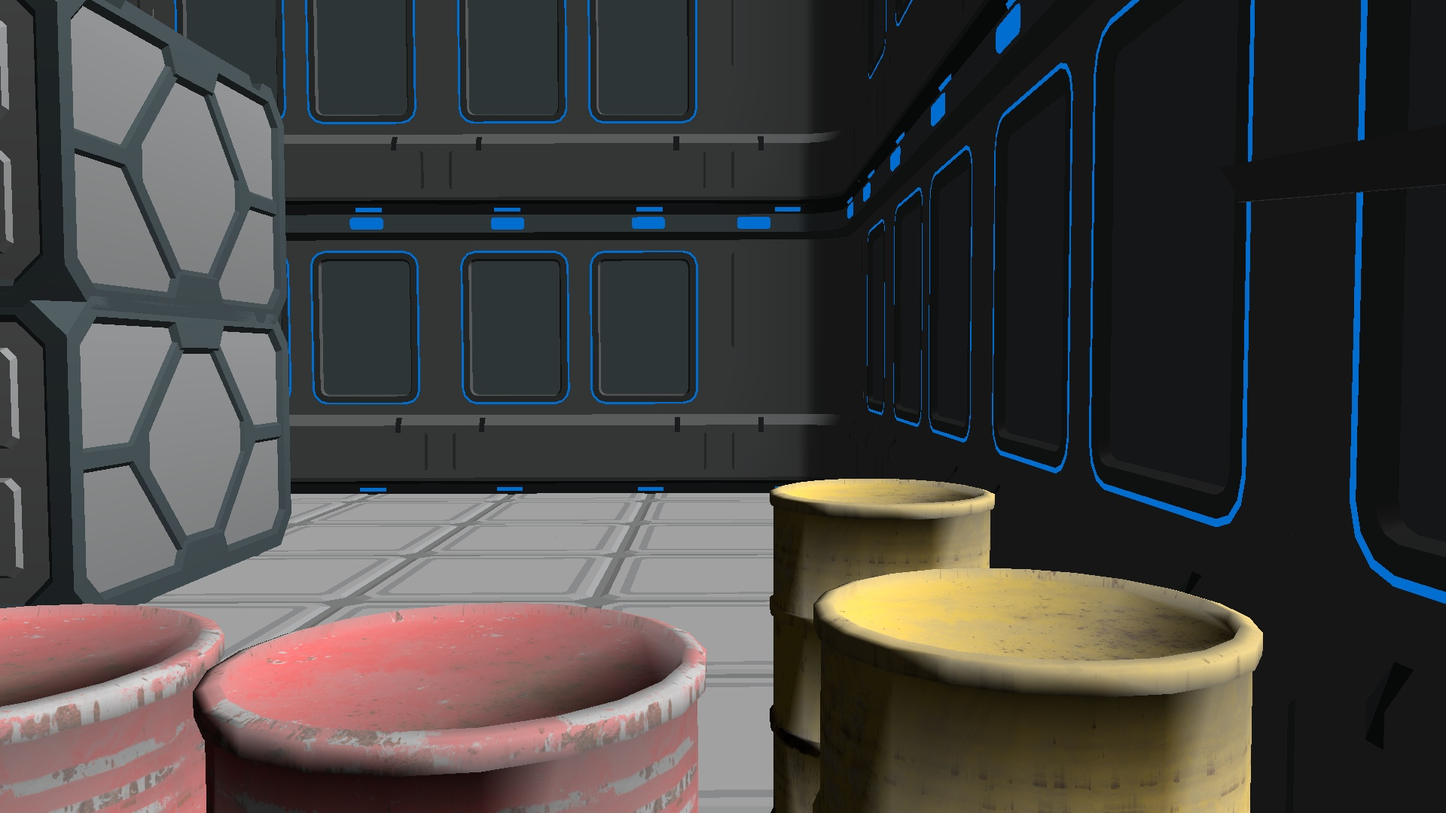toxic barrel: (814, 568, 1264, 813), (192, 601, 706, 813), (768, 478, 995, 813), (0, 604, 225, 813)
